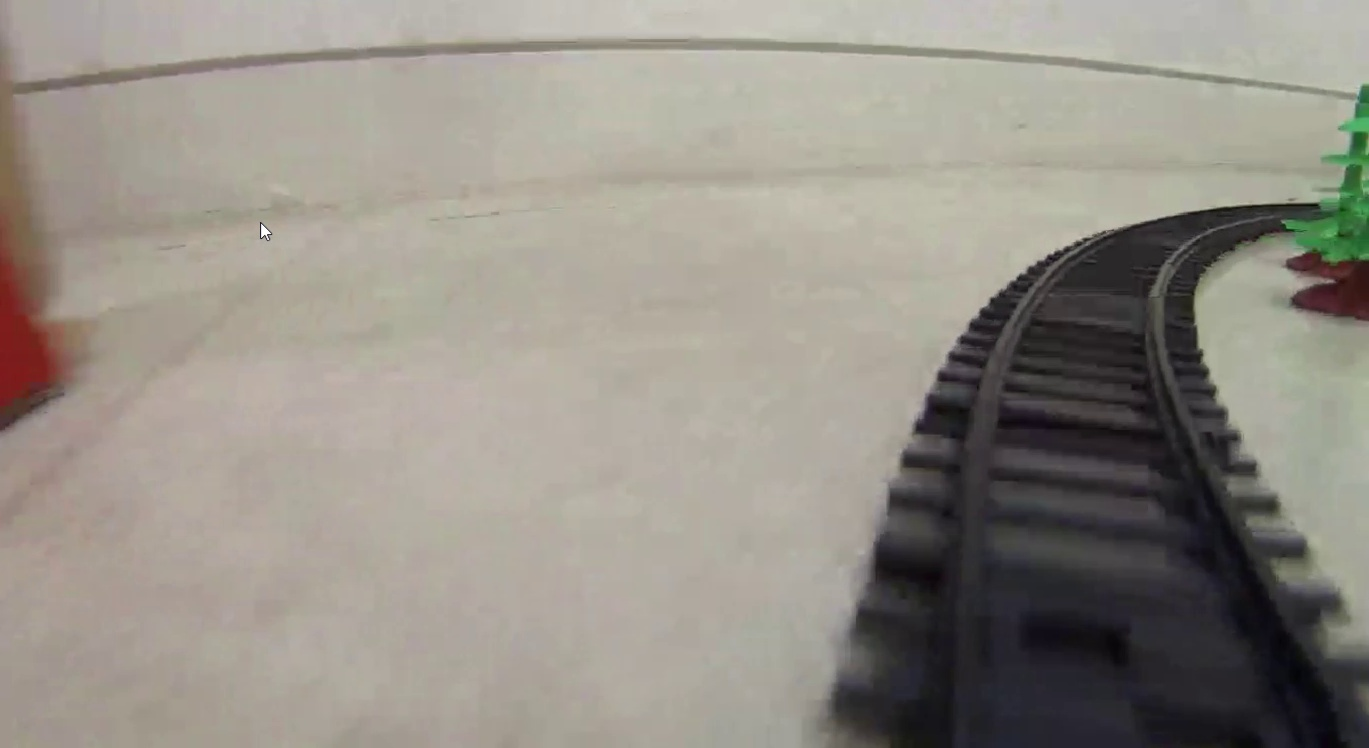tree: (1291, 80, 1369, 326)
